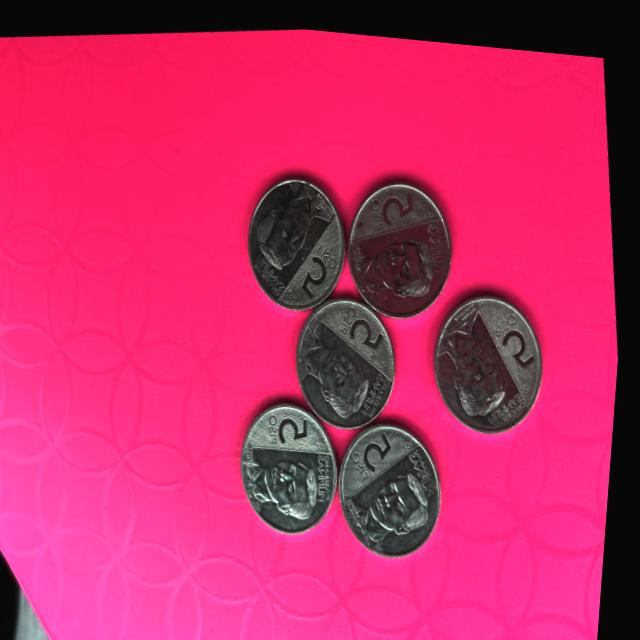5_New_Front: (482, 286, 549, 365), (336, 290, 403, 357), (346, 417, 406, 479), (262, 395, 326, 448), (287, 227, 336, 295), (365, 181, 420, 225)
